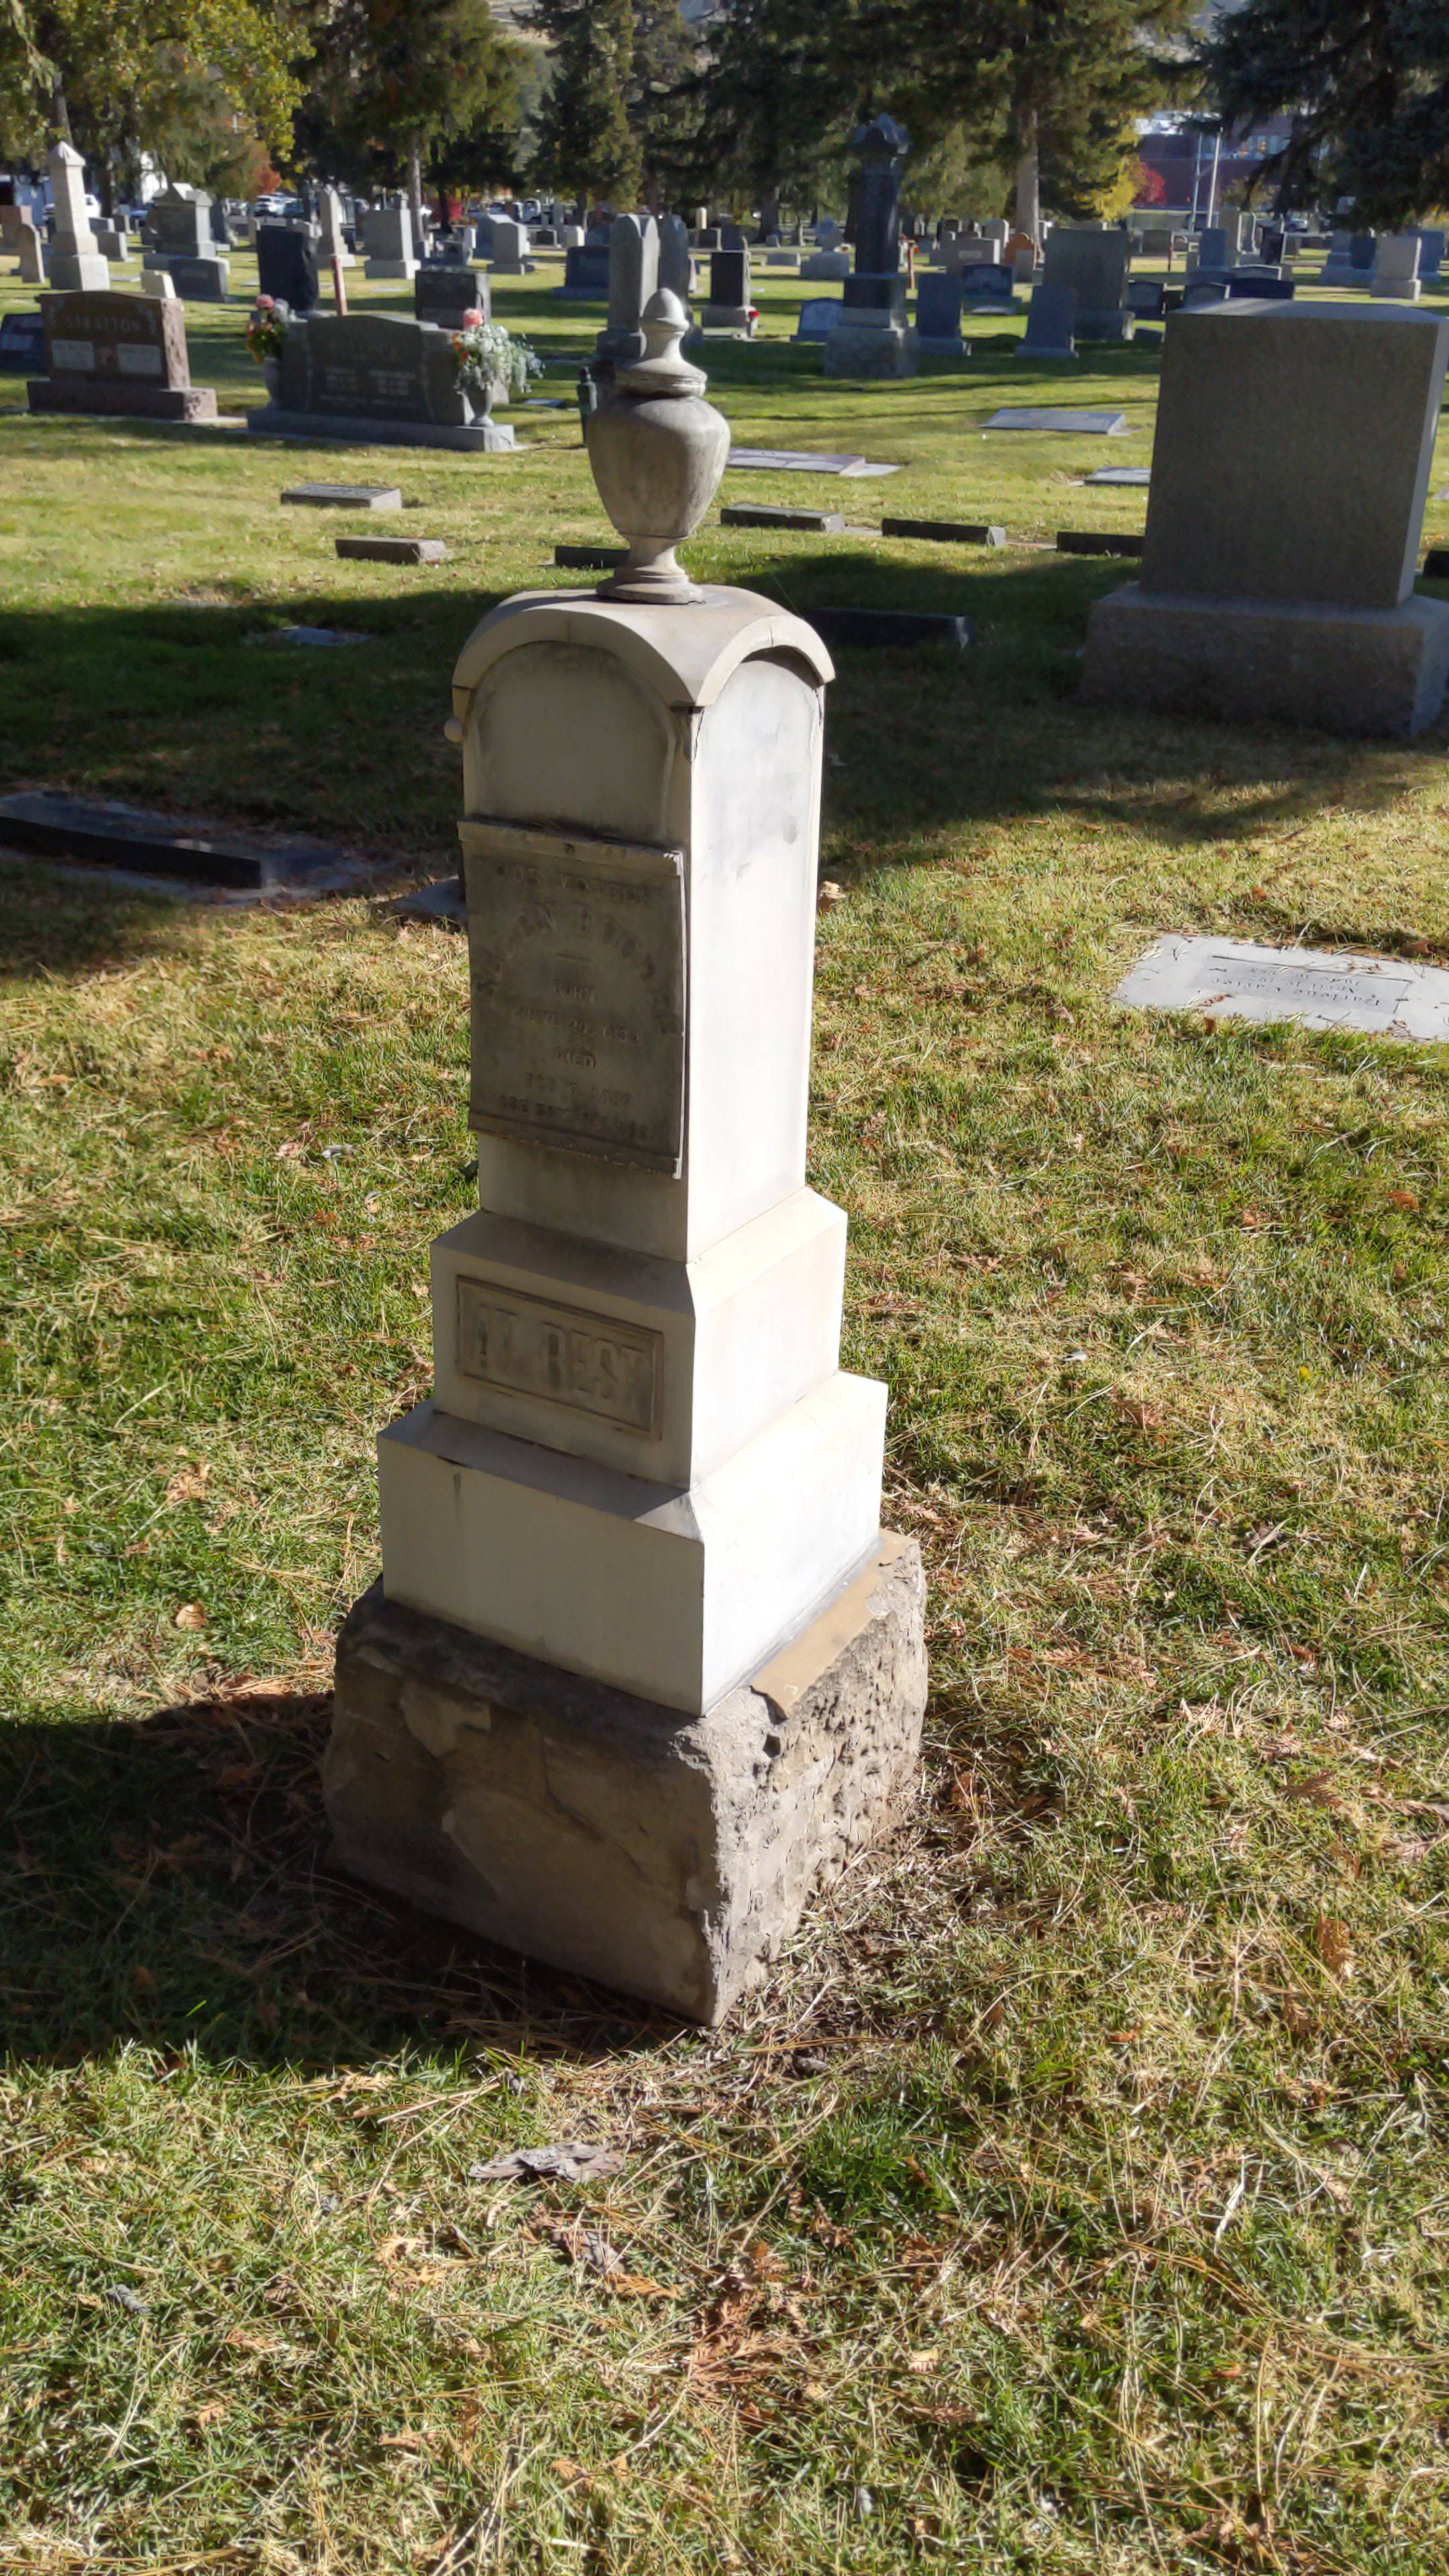obelisk: (375, 297, 886, 1711)
